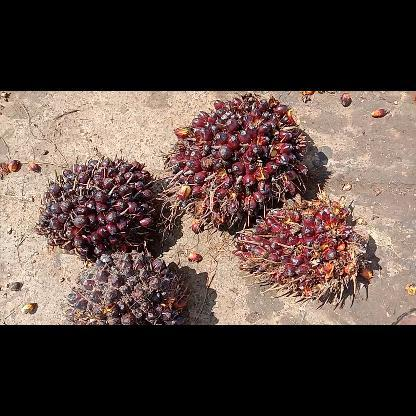Kurang masak: (156, 96, 310, 238), (233, 190, 371, 306), (36, 156, 158, 260), (67, 250, 189, 324)
